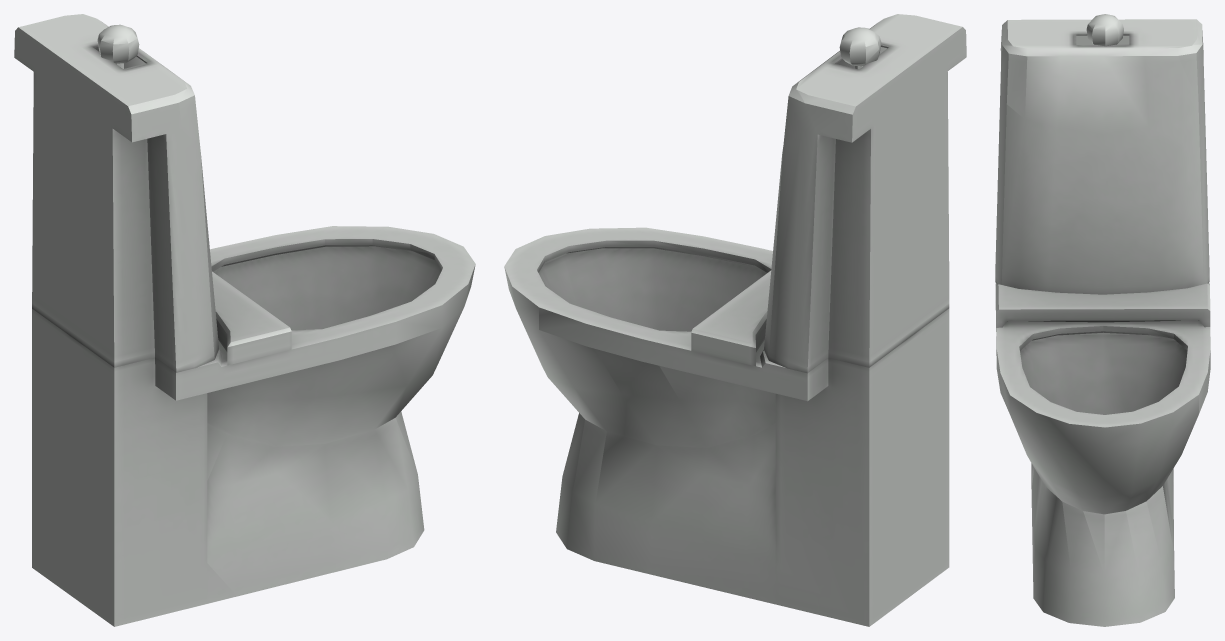
Rendered from g-toilet_base.glb.
The picture shows the model from 3 angles, left to right: view 1: azimuth 30°, elevation 25°; view 2: azimuth 150°, elevation 25°; view 3: azimuth 270°, elevation 25°; orthographic projection. The views are drawn at different scales.
Visible parts, largest first — view 1: Object_2, Object_3; view 2: Object_2, Object_3; view 3: Object_2, Object_3.
Boxes of the visible parts, <box> form: Object_2: <box>14,14,475,626</box>; Object_3: <box>97,24,139,68</box>; Object_2: <box>504,14,966,626</box>; Object_3: <box>839,27,881,69</box>; Object_2: <box>995,19,1210,626</box>; Object_3: <box>1086,14,1123,46</box>.
Bounding box in the file's own units: 4.95 × 6.71 × 2.7.
Materials: 2 (2 with a texture image).
